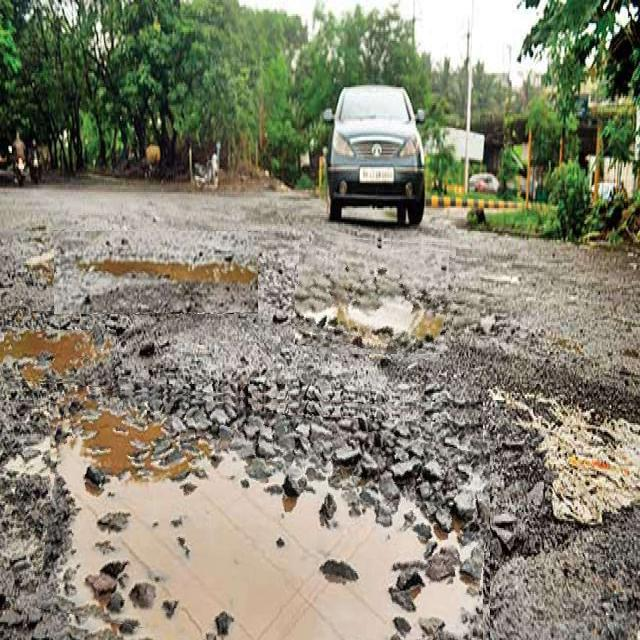Pothole: (43, 387, 490, 640), (295, 235, 456, 354), (54, 231, 258, 314), (3, 330, 116, 386)
